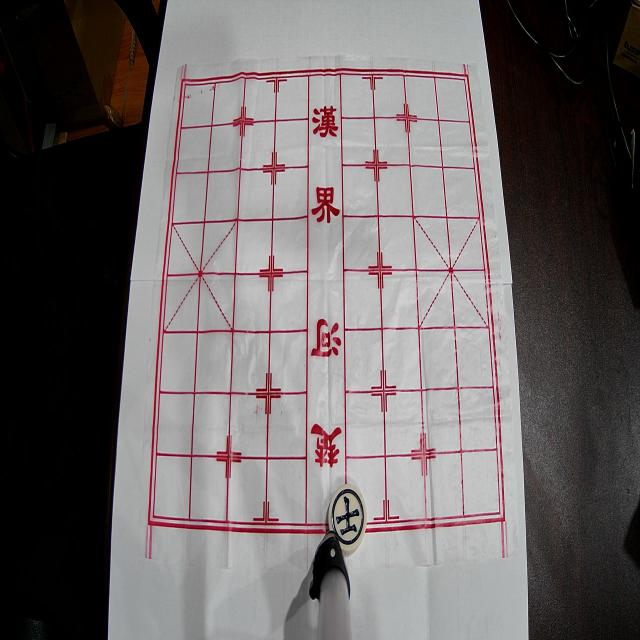black-guard: (328, 483, 367, 553)
